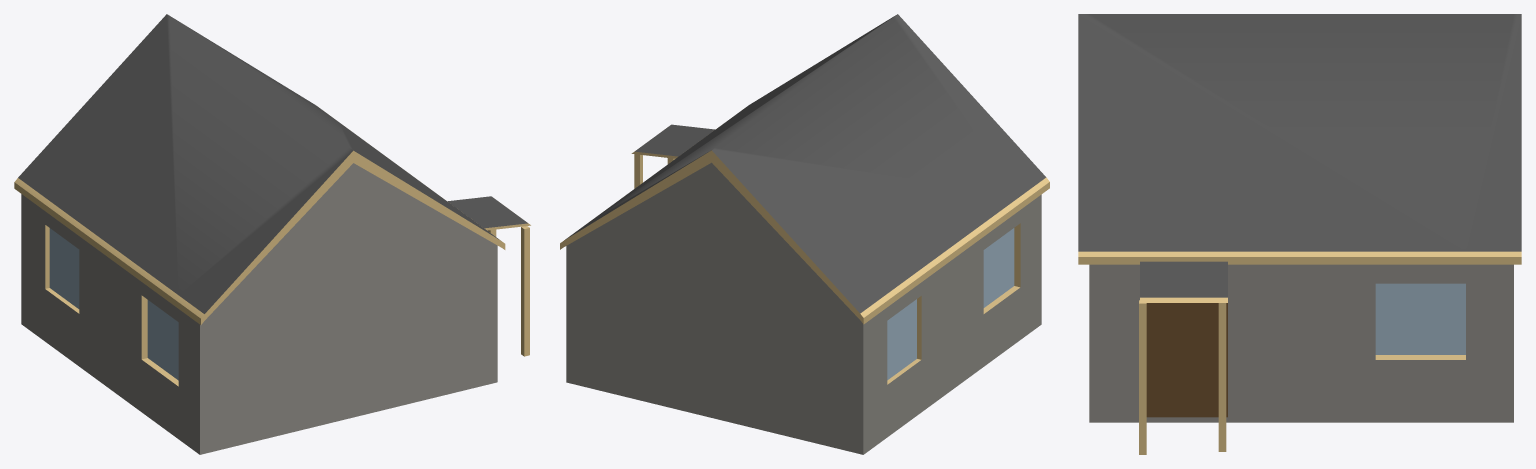
Rendered from House1-2.fbx.
The picture shows the model from 3 angles, left to right: view 1: azimuth 30°, elevation 25°; view 2: azimuth 150°, elevation 25°; view 3: azimuth 270°, elevation 25°; orthographic projection. The views are drawn at different scales.
Visible parts, largest first — view 1: pCube1.002, pCube2.002; view 2: pCube1.002; view 3: pCube1.002, pCube3.002, pCube2.002.
Part boxes in pixels (<box>): pCube1.002: <box>14,14,530,454</box>; pCube2.002: <box>521,226,529,356</box>; pCube1.002: <box>560,14,1049,454</box>; pCube1.002: <box>1078,14,1521,422</box>; pCube3.002: <box>1218,303,1226,451</box>; pCube2.002: <box>1139,300,1146,454</box>.
Bounding box in the file's own units: 10.81 × 7.91 × 9.81.
